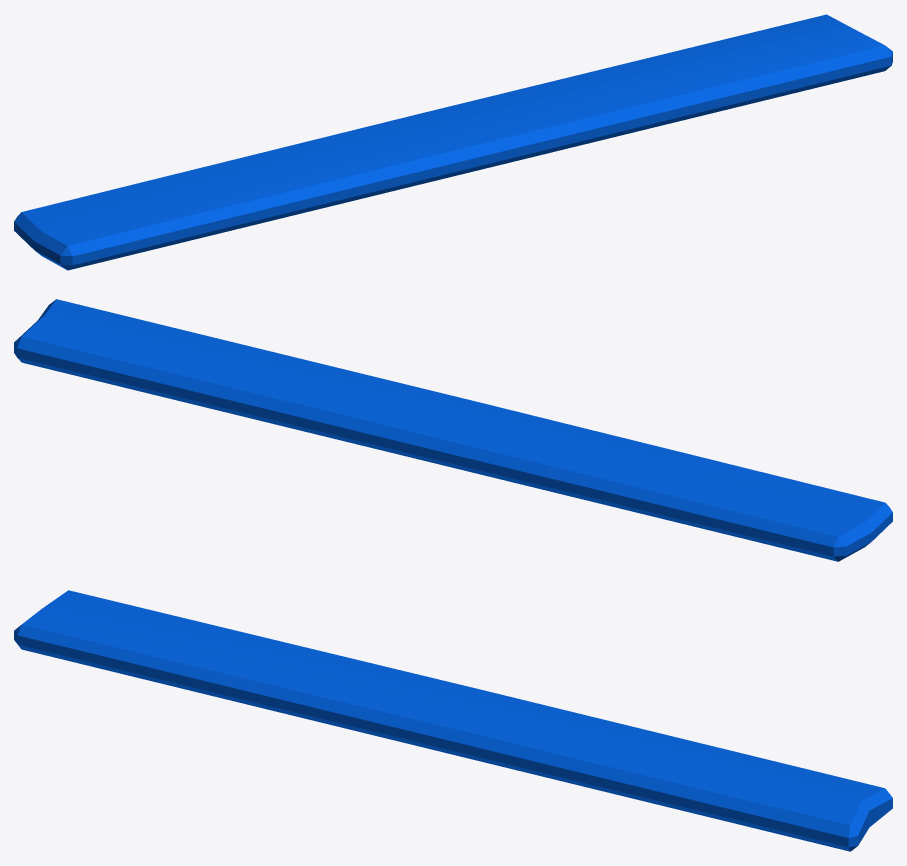
File: SM_Castle_Board.fbx
3 renders of one model, top to bottom at view 1: azimuth 30°, elevation 25°; view 2: azimuth 150°, elevation 25°; view 3: azimuth 330°, elevation 25°, orthographic.
Visible parts, largest first — view 1: board; view 2: board; view 3: board.
Part boxes in pixels (box(x1,y1,x2,y2)): board: box(14, 14, 892, 270); board: box(14, 299, 892, 561); board: box(14, 590, 892, 851).
Size of the model in its own units: 1130 by 41.63 by 129.
